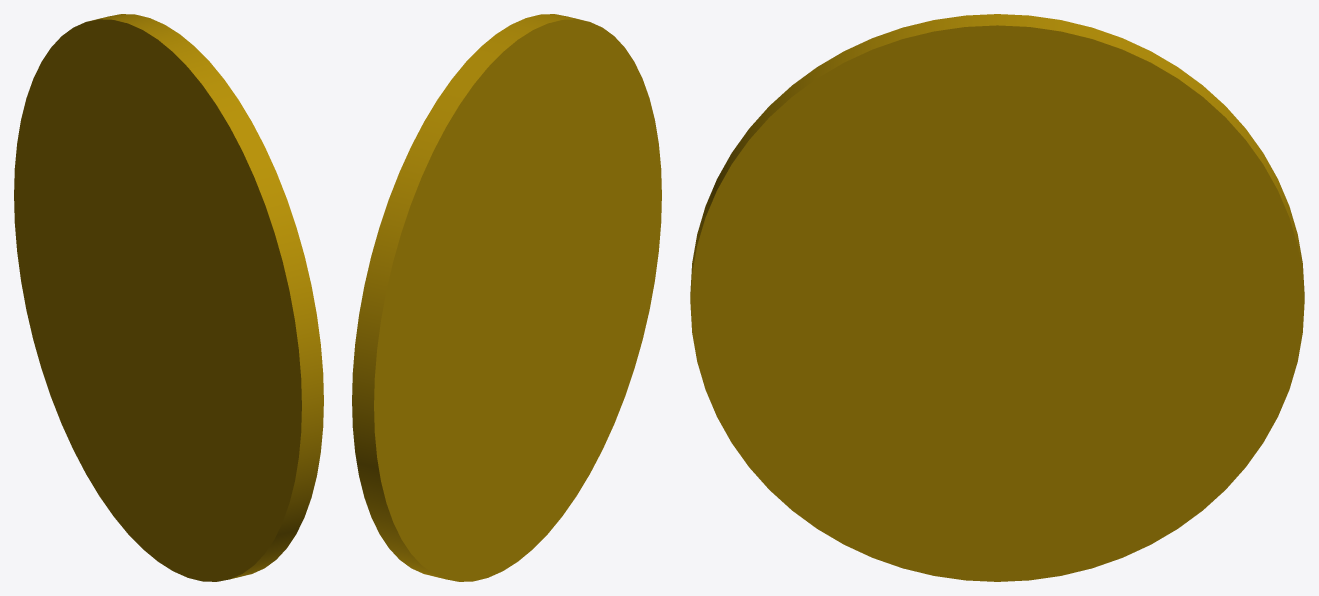
The model's file is Be Window.obj.
The picture shows the model from 3 angles, left to right: view 1: azimuth 30°, elevation 25°; view 2: azimuth 150°, elevation 25°; view 3: azimuth 270°, elevation 25°; orthographic projection. The views are drawn at different scales.
Parts seen in each view (by area): view 1: Solid1; view 2: Solid1; view 3: Solid1.
Part boxes in pixels (bbox=[...]): Solid1: bbox=[14, 14, 323, 581]; Solid1: bbox=[352, 14, 661, 581]; Solid1: bbox=[690, 14, 1304, 581].
Size of the model in its own units: 1.5 by 34 by 34.
